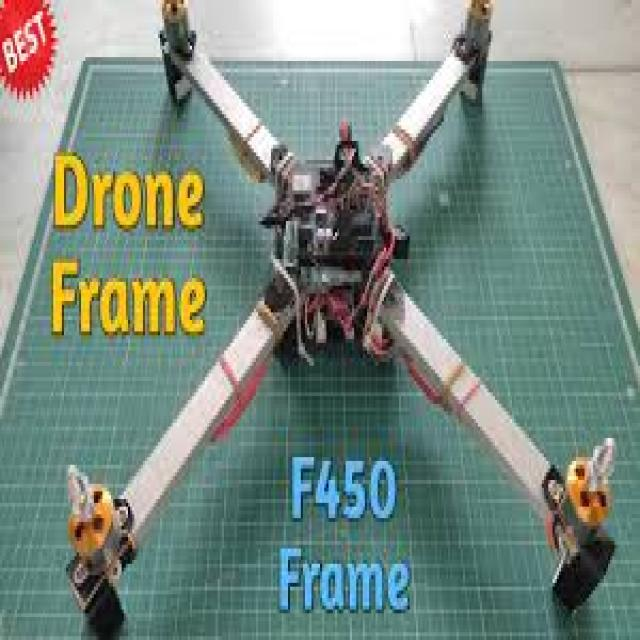drone: (73, 0, 618, 605)
